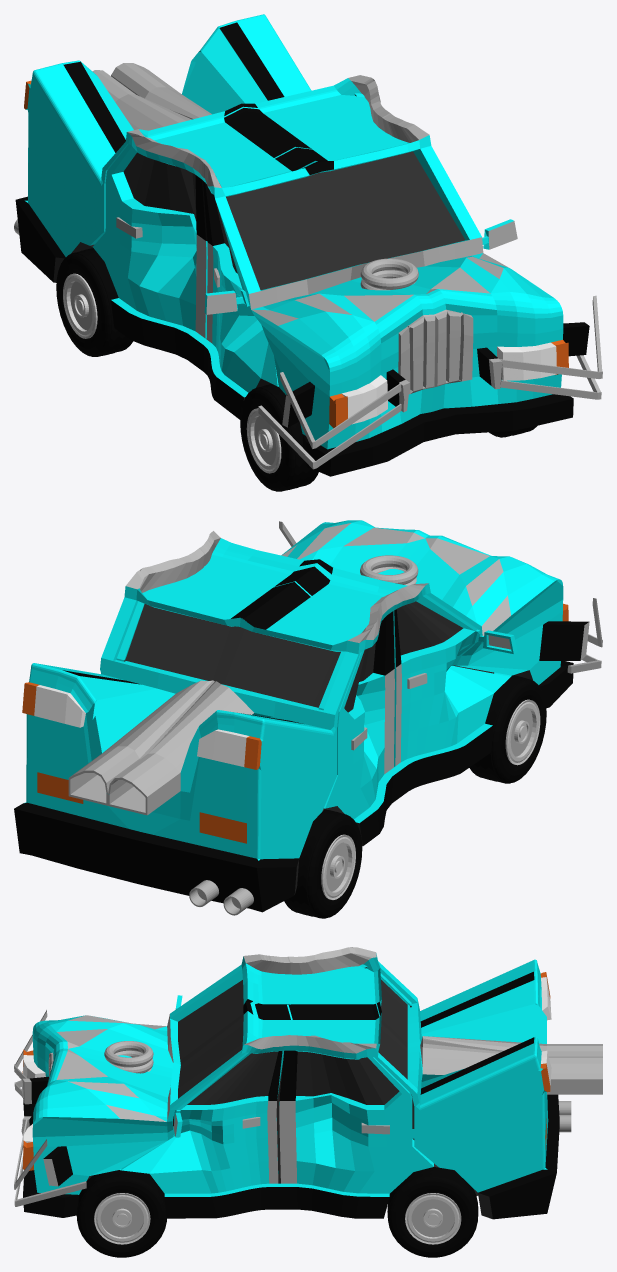
The picture shows the model from 3 angles, top to bottom: view 1: azimuth 30°, elevation 25°; view 2: azimuth 150°, elevation 25°; view 3: azimuth 270°, elevation 25°; orthographic projection. The views are drawn at different scales.
Visible parts, largest first — view 1: BODY37B-S, WHEEL.004, WHEEL.001, Torus; view 2: BODY37B-S, WHEEL.004, WHEEL.001, Torus, SHACMAN; view 3: BODY37B-S, WHEEL.002, WHEEL.003, Torus, SHACMAN.
Part boxes in pixels (left/top/right/bottom): BODY37B-S: left=15, top=14, right=602, bottom=476; WHEEL.004: left=56, top=248, right=133, bottom=356; WHEEL.001: left=240, top=384, right=318, bottom=491; Torus: left=360, top=258, right=418, bottom=290; BODY37B-S: left=14, top=520, right=602, bottom=912; WHEEL.004: left=284, top=809, right=362, bottom=918; WHEEL.001: left=469, top=675, right=546, bottom=783; Torus: left=360, top=555, right=418, bottom=585; SHACMAN: left=189, top=880, right=253, bottom=915; BODY37B-S: left=14, top=947, right=602, bottom=1219; WHEEL.002: left=387, top=1167, right=478, bottom=1257; WHEEL.003: left=76, top=1170, right=166, bottom=1257; Torus: left=104, top=1041, right=153, bottom=1073; SHACMAN: left=558, top=1101, right=571, bottom=1132.
Bounding box in the file's own units: 133 × 101 × 253.
